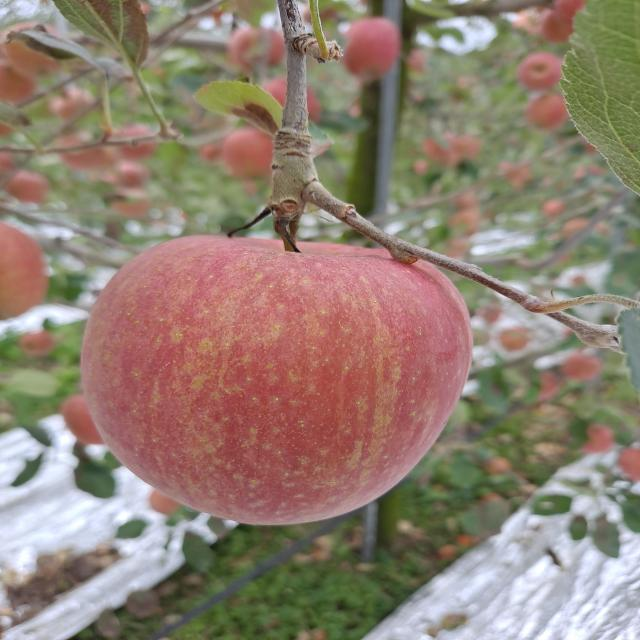fresh: (70, 227, 483, 534)
